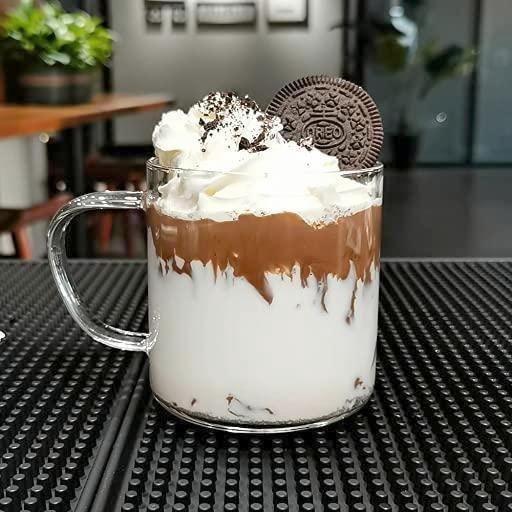glass-mug: (39, 140, 389, 445)
